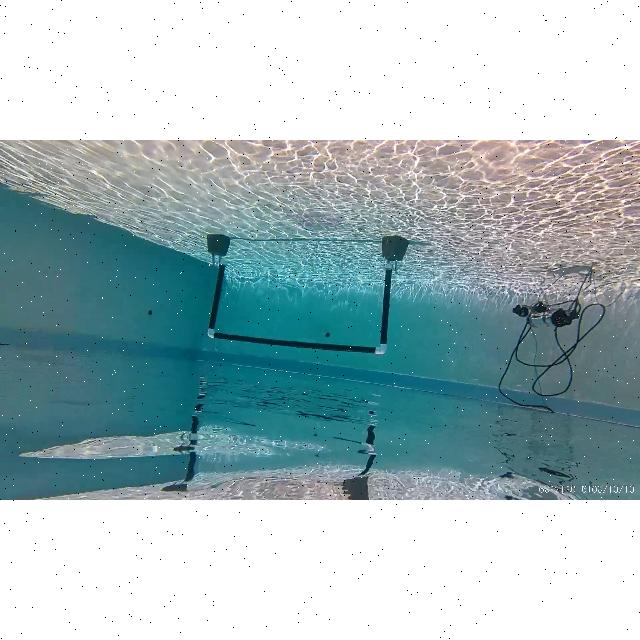prequal gate: (207, 256, 393, 356)
prequal gate leg l: (373, 260, 393, 354)
prequal gate leg r: (205, 258, 227, 342)
